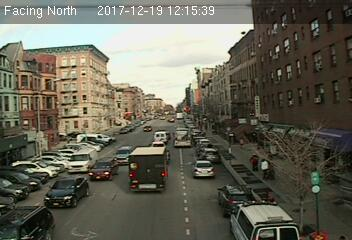car: (46, 174, 89, 210), (221, 182, 252, 212), (92, 156, 117, 180), (191, 160, 215, 178), (198, 145, 219, 163), (114, 146, 133, 165)
police: (229, 197, 299, 240)
truck: (67, 148, 95, 174), (175, 127, 193, 148), (152, 131, 167, 144)
ups: (128, 147, 169, 193)
